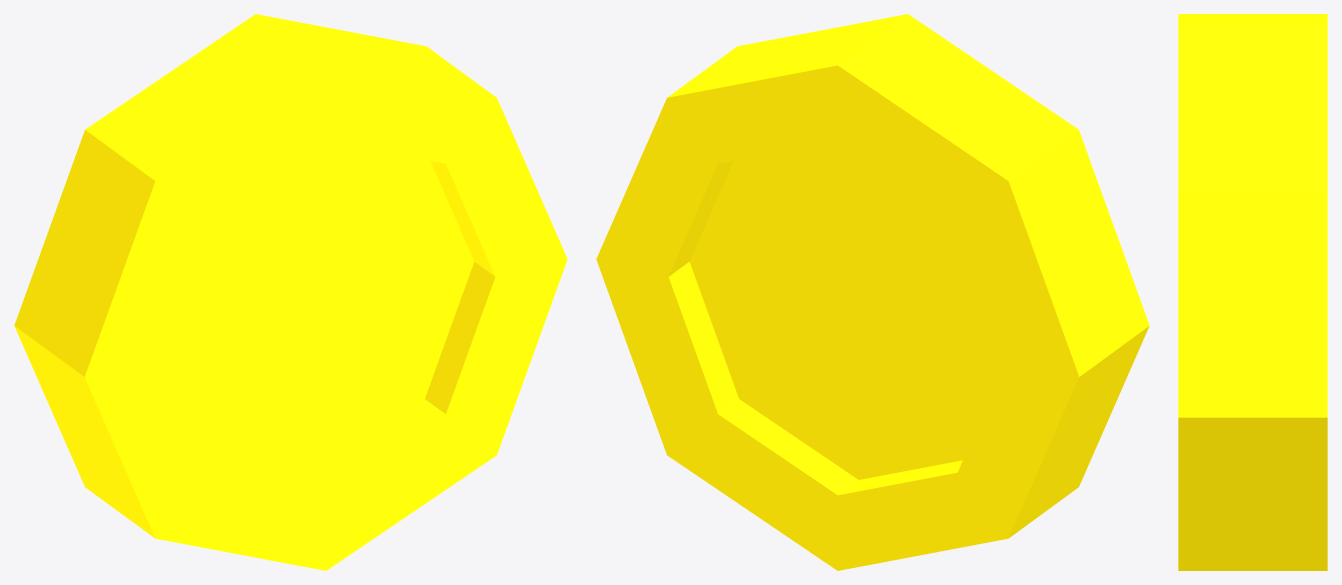
Rendered from coin.glb.
3 renders of one model, left to right at view 1: azimuth 30°, elevation 25°; view 2: azimuth 150°, elevation 25°; view 3: azimuth 270°, elevation 25°, orthographic. The views are drawn at different scales.
Parts seen in each view (by area): view 1: Cylinder; view 2: Cylinder; view 3: Cylinder.
Part boxes in pixels (bbox=[...]): Cylinder: bbox=[14, 14, 567, 570]; Cylinder: bbox=[596, 14, 1149, 570]; Cylinder: bbox=[1178, 14, 1327, 570].
Bounding box in the file's own units: 0.4507 × 0.4507 × 0.1137.
